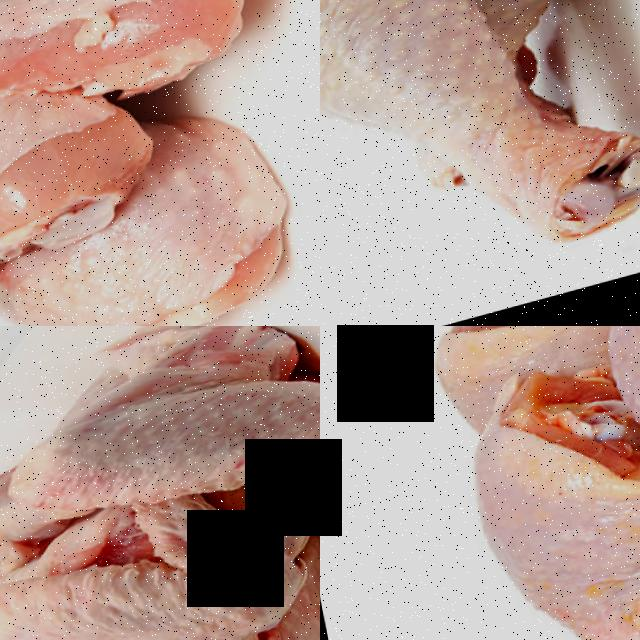chicken thigh: (320, 0, 640, 326), (453, 359, 640, 640), (0, 0, 276, 187)
chicken wing: (0, 326, 320, 574), (0, 481, 299, 640)
